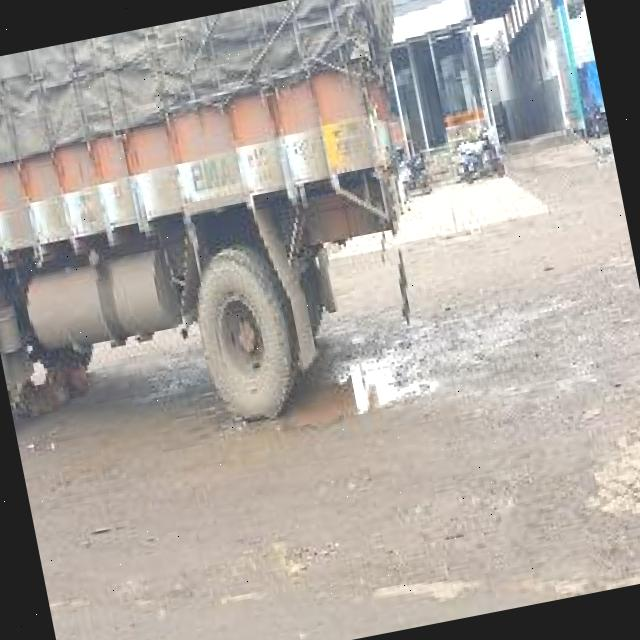waterlogging: (322, 346, 456, 436)
